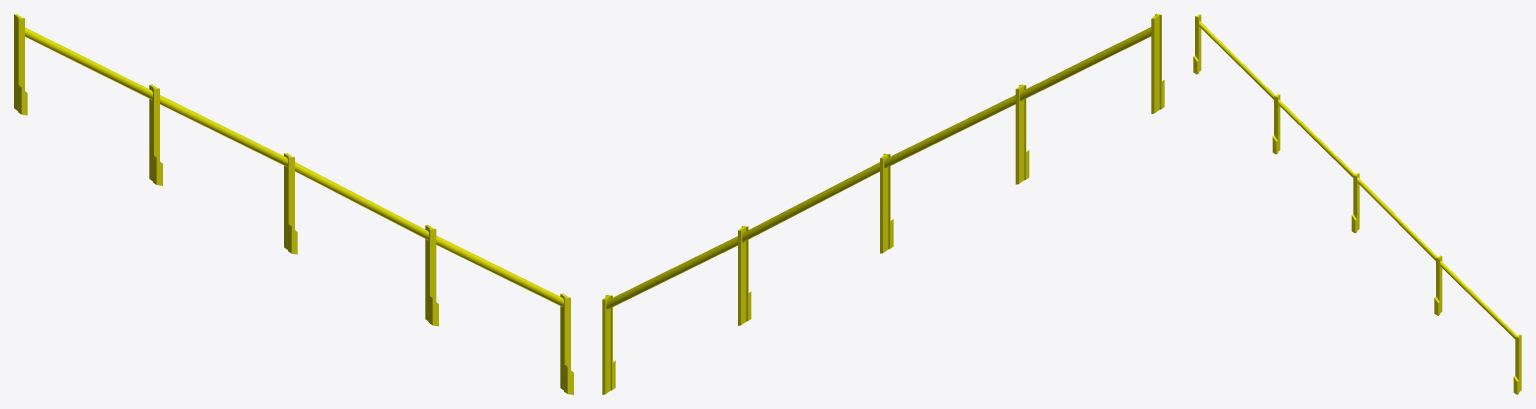
Rendered from Metal_Stairs_03B_Rail.fbx.
3 views of the same model, side by side, from view 1: azimuth 30°, elevation 25°; view 2: azimuth 150°, elevation 25°; view 3: azimuth 330°, elevation 25° (orthographic). The views are drawn at different scales.
Parts seen in each view (by area): view 1: Metal_Stairs_03B_Rail; view 2: Metal_Stairs_03B_Rail; view 3: Metal_Stairs_03B_Rail.
Boxes of the visible parts, x1,y1,x2,y2 form: Metal_Stairs_03B_Rail: (14,14,573,394); Metal_Stairs_03B_Rail: (602,14,1164,394); Metal_Stairs_03B_Rail: (1193,14,1521,394).
Size of the model in its own units: 594 by 523 by 16.95.
